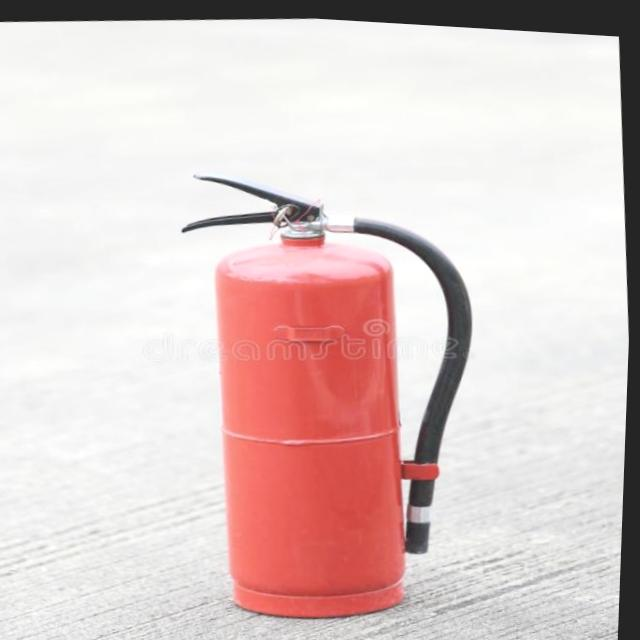FireExtinguisher: (150, 146, 506, 637)
